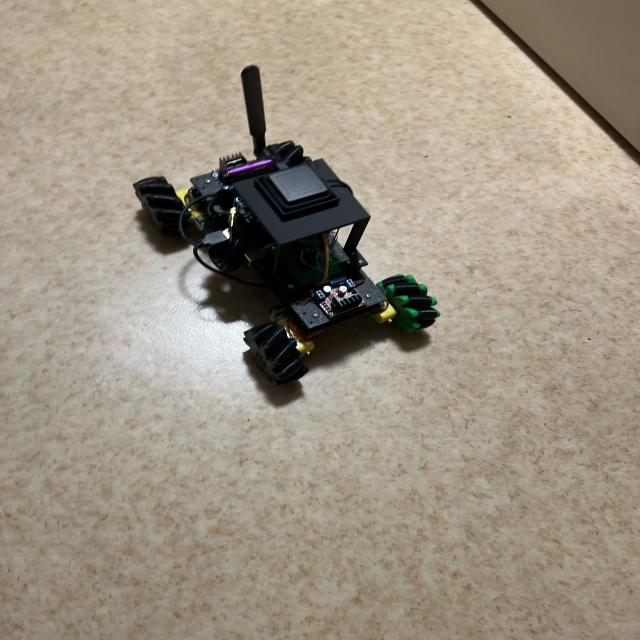robot: (134, 65, 439, 383)
